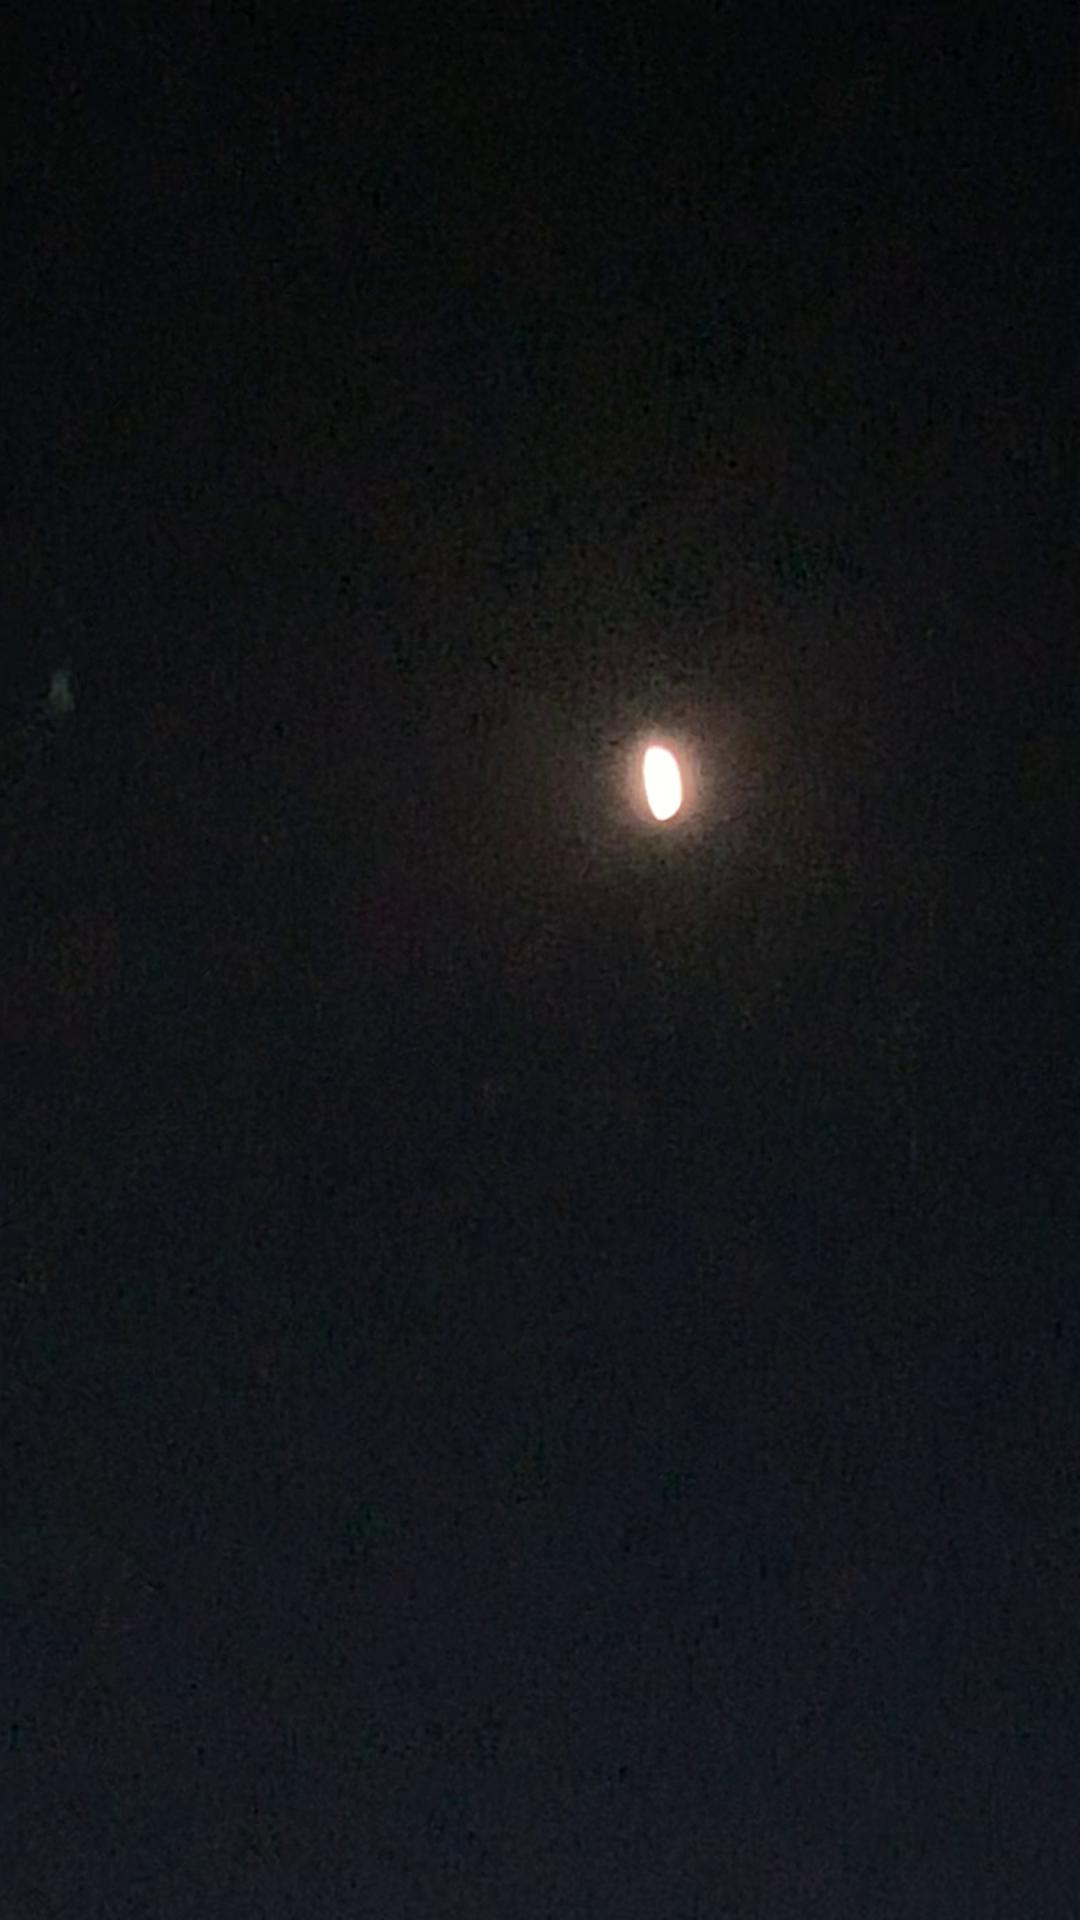moon: (621, 735, 709, 818)
